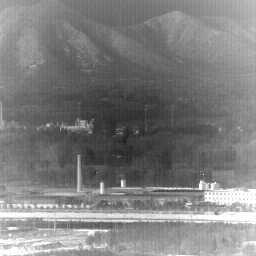aircraft: (118, 156, 120, 158)
